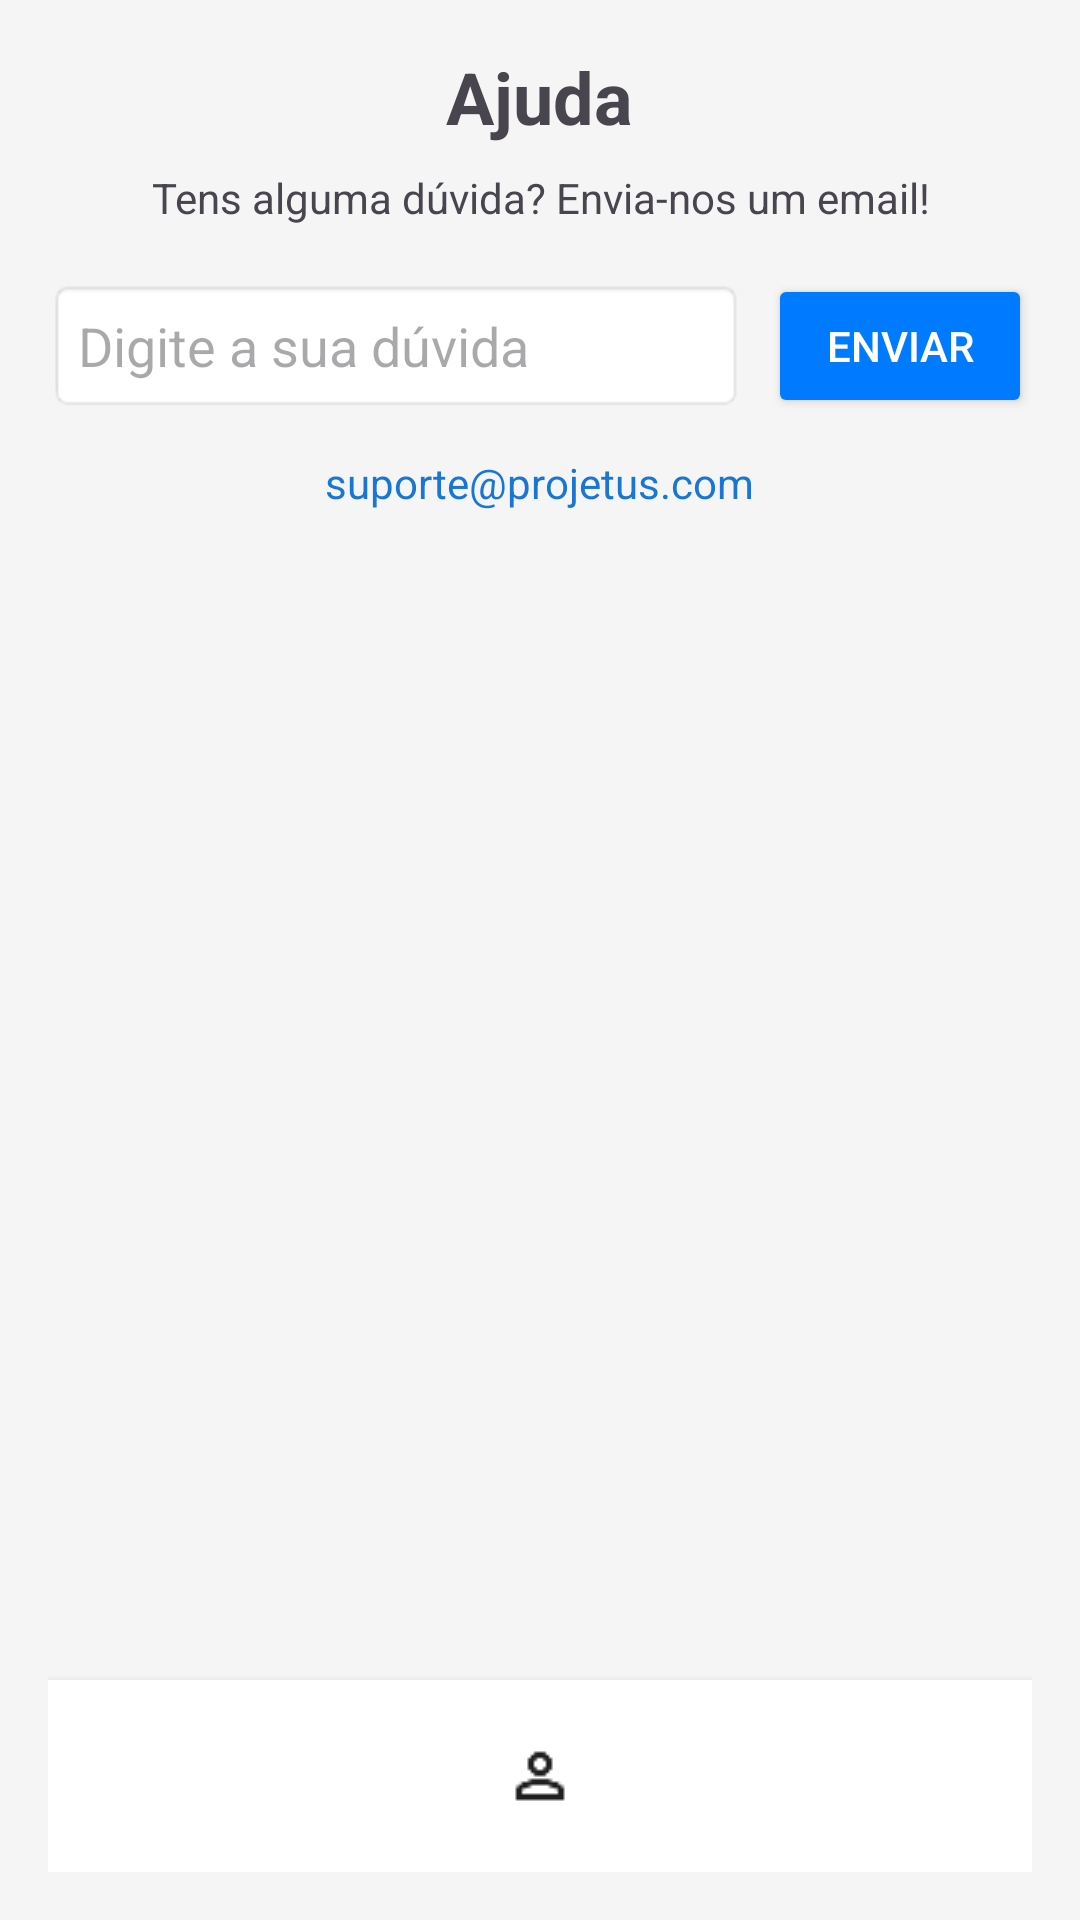

Where icons sit on this 1080*1920 app screen, as [x1=x1, y1=y1, x2=x2, y2=y2]:
Perfil: [x1=515, y1=1751, x2=565, y2=1801]
